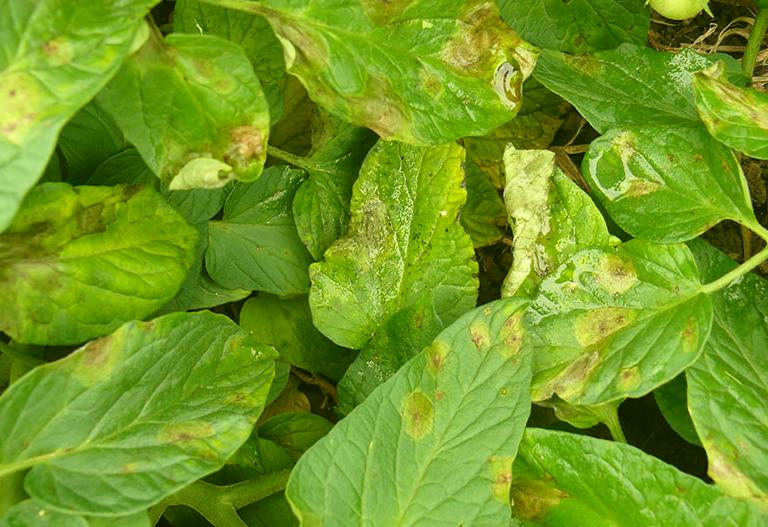Tomato leaf late blight: (221, 250, 559, 527), (0, 293, 284, 515), (322, 119, 514, 381), (499, 225, 733, 419), (262, 0, 534, 161), (95, 0, 282, 229), (0, 167, 210, 356), (576, 115, 768, 255), (677, 46, 768, 168)
